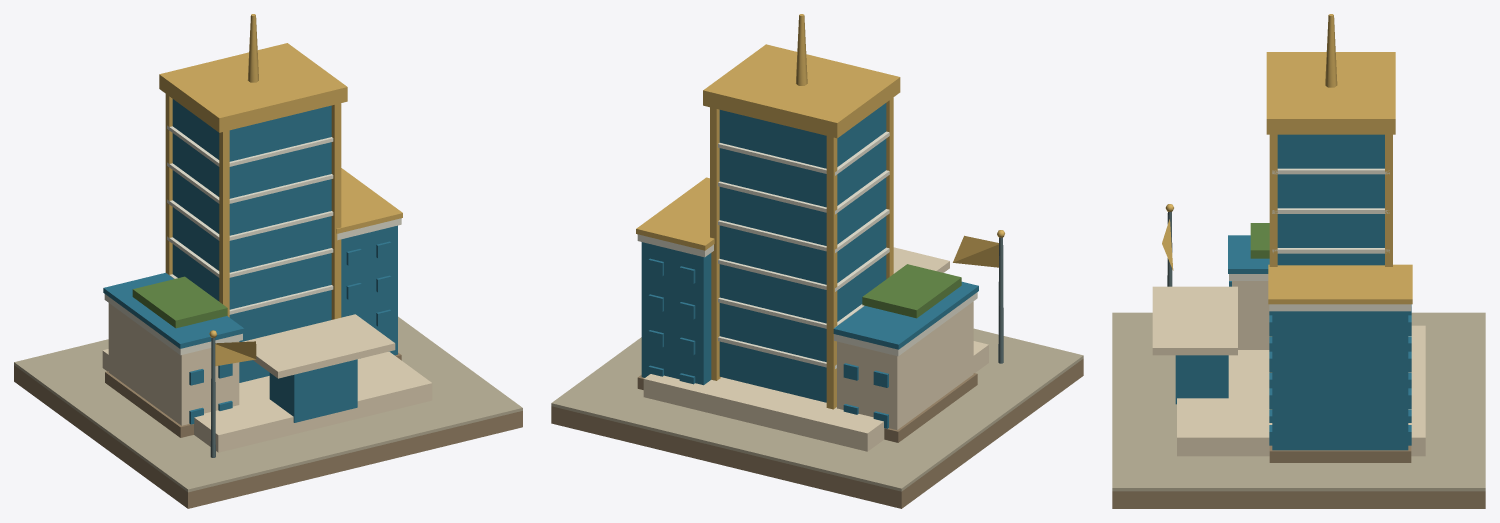
Rendered from club-headquarters-lv4.glb.
3 views of the same model, side by side, from view 1: azimuth 30°, elevation 25°; view 2: azimuth 150°, elevation 25°; view 3: azimuth 270°, elevation 25° (orthographic). The views are drawn at different scales.
Visible parts, largest first — view 1: office_tower_glass, foundation_paving, tower_crown_gold, foundation_stoneDark, headquarters_plinth_cream, office_wing_cream, tower_mullions_gold, entrance_canopy_cream, floor_bands_white, secondary_tower_glass, entrance_lobby_glass, office_wing_roof_glass (+9 smaller); view 2: office_tower_glass, foundation_paving, tower_crown_gold, foundation_stoneDark, office_wing_cream, headquarters_plinth_cream, secondary_tower_glass, tower_mullions_gold, floor_bands_white, office_wing_roof_glass, roof_garden_grass, secondary_tower_roof_gold (+8 smaller); view 3: foundation_paving, secondary_tower_glass, office_tower_glass, tower_crown_gold, headquarters_plinth_cream, foundation_stoneDark, entrance_canopy_cream, secondary_tower_roof_gold, entrance_lobby_glass, tower_mullions_gold, office_wing_cream, floor_bands_white (+6 smaller).
Part boxes in pixels (x1,y1,x2,y2): office_tower_glass: [172, 99, 331, 382]; foundation_paving: [14, 316, 522, 492]; tower_crown_gold: [159, 43, 347, 132]; foundation_stoneDark: [14, 365, 522, 508]; headquarters_plinth_cream: [102, 349, 432, 452]; office_wing_cream: [108, 303, 239, 425]; tower_mullions_gold: [165, 94, 341, 319]; entrance_canopy_cream: [242, 314, 395, 378]; floor_bands_white: [167, 125, 333, 314]; secondary_tower_glass: [341, 225, 397, 355]; entrance_lobby_glass: [269, 359, 357, 422]; office_wing_roof_glass: [103, 272, 244, 348]; office_tower_glass: [719, 103, 886, 402]; foundation_paving: [551, 328, 1083, 491]; tower_crown_gold: [703, 44, 900, 138]; foundation_stoneDark: [551, 358, 1083, 508]; office_wing_cream: [837, 301, 973, 429]; headquarters_plinth_cream: [643, 341, 988, 451]; secondary_tower_glass: [641, 242, 711, 385]; tower_mullions_gold: [710, 97, 893, 409]; floor_bands_white: [718, 131, 889, 368]; office_wing_roof_glass: [833, 281, 978, 349]; roof_garden_grass: [862, 264, 961, 318]; secondary_tower_roof_gold: [636, 177, 714, 250]; foundation_paving: [1112, 312, 1485, 491]; secondary_tower_glass: [1272, 311, 1408, 450]; office_tower_glass: [1277, 134, 1384, 265]; tower_crown_gold: [1266, 52, 1395, 134]; headquarters_plinth_cream: [1177, 325, 1425, 456]; foundation_stoneDark: [1112, 491, 1485, 508]; entrance_canopy_cream: [1152, 286, 1237, 355]; secondary_tower_roof_gold: [1268, 264, 1412, 304]; entrance_lobby_glass: [1175, 355, 1228, 404]; tower_mullions_gold: [1269, 134, 1392, 409]; office_wing_cream: [1232, 281, 1269, 349]; floor_bands_white: [1272, 168, 1389, 253].
Size of the model in its own units: 1 by 1.08 by 0.9.
